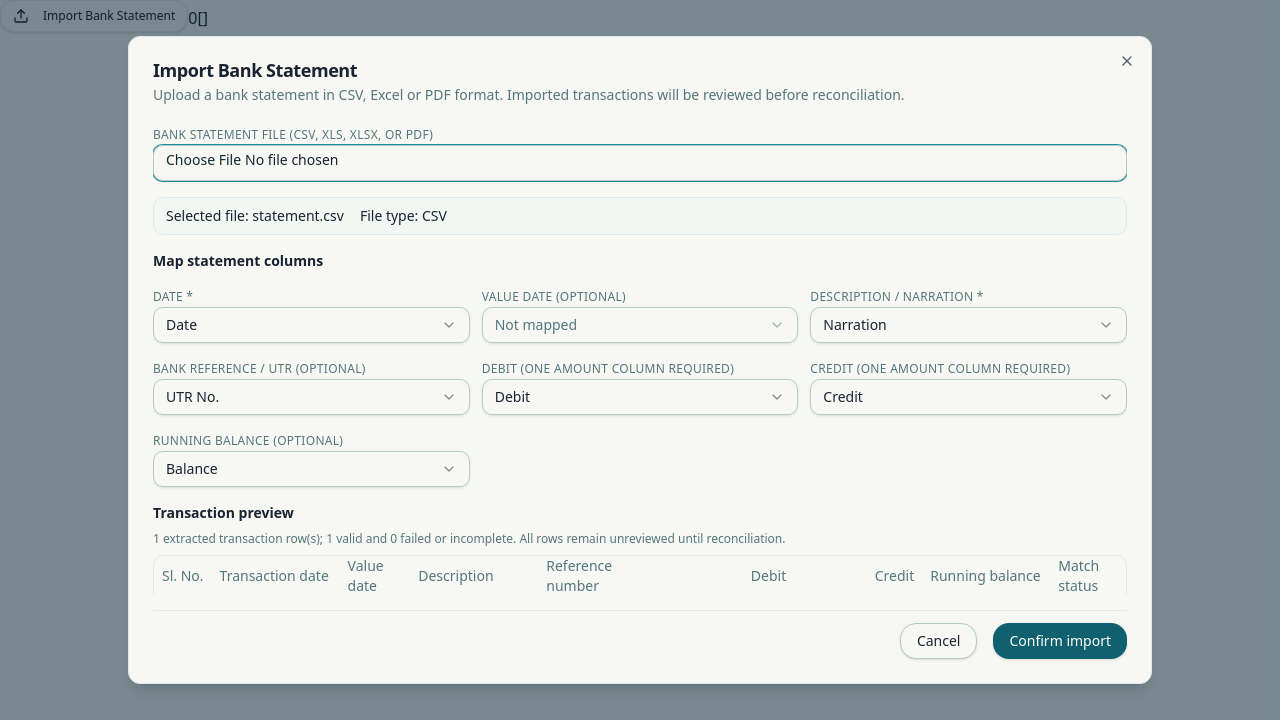
Scenario: Bank statement import flow › confirms imported statement rows separately from transactions
The width and height of the screenshot is (1280, 720).
Earlier steps of the test are not shown.
What coordinates should you click on to do the following:
click the button "Confirm import"
I would click on:
 (1060, 641)
Its box is [994, 623, 1127, 659].
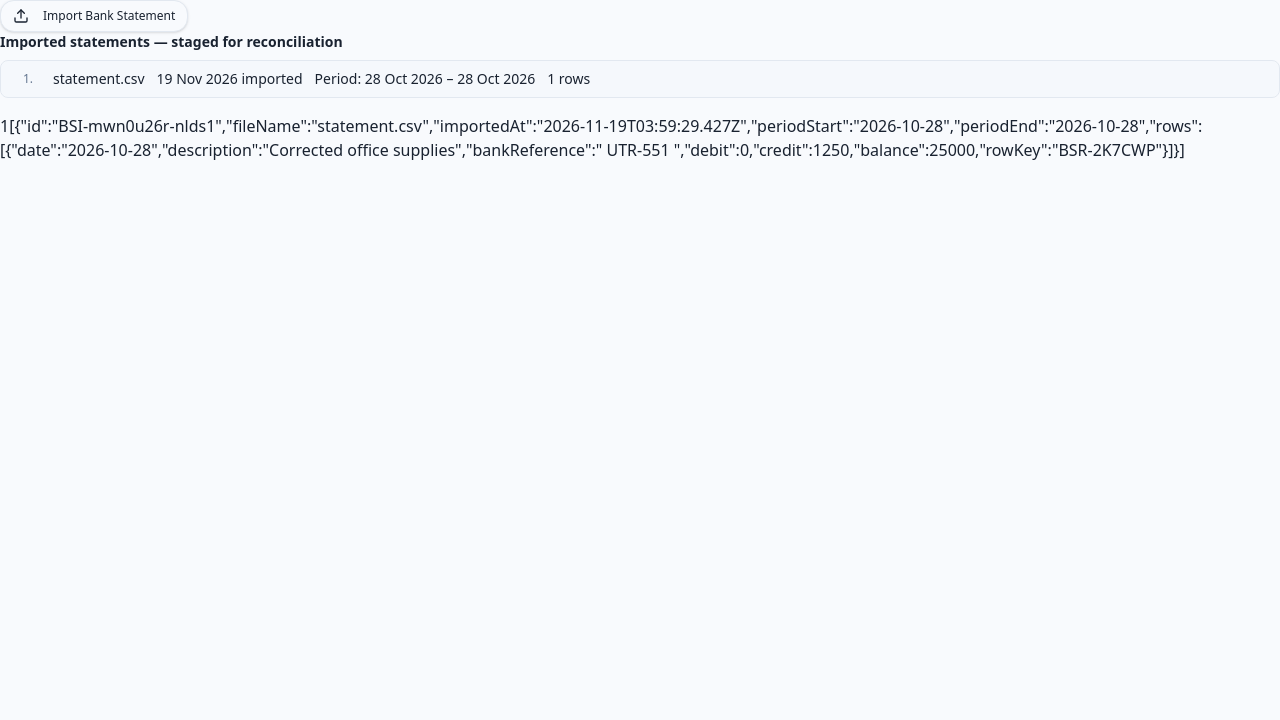
Now the heading "Imported statements — staged for reconciliation" is shown, box [0, 32, 343, 51]
Now the text with test id "import-count" reads "1", box [0, 115, 9, 137]
Now the text "statement.csv" is shown, box [53, 69, 144, 89]
